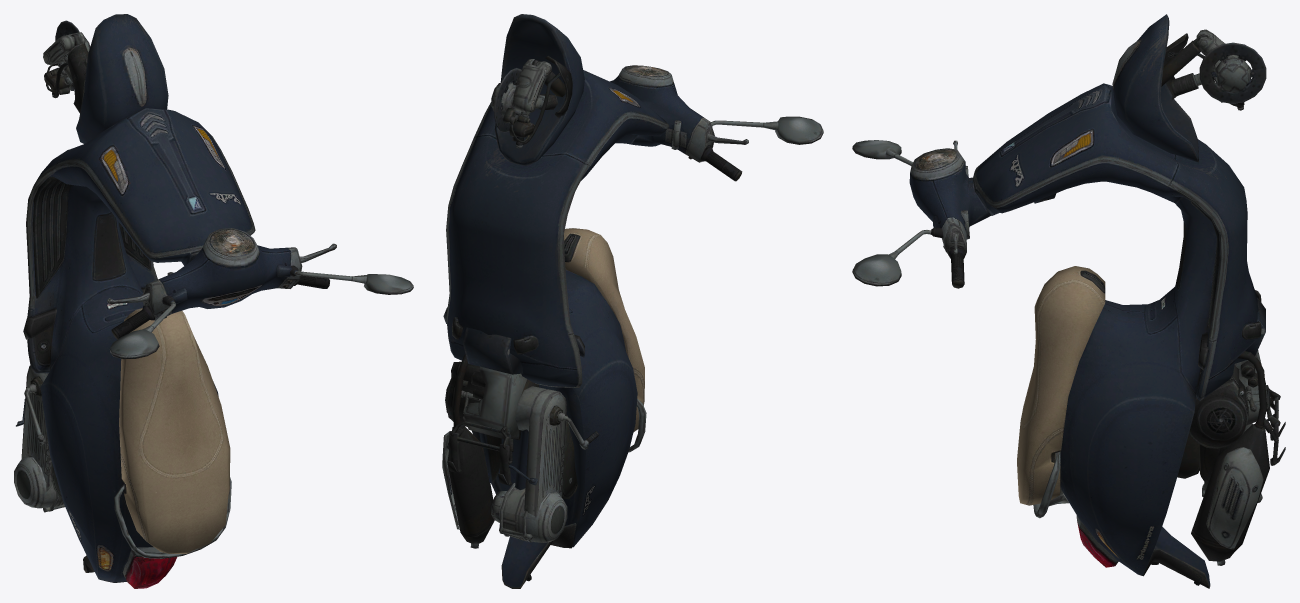
Rendered from Scooter.obj.
The picture shows the model from 3 angles, left to right: view 1: azimuth 30°, elevation 25°; view 2: azimuth 150°, elevation 25°; view 3: azimuth 270°, elevation 25°; orthographic projection. The views are drawn at different scales.
Parts seen in each view (by area): view 1: COM_Vehicle_.002; view 2: COM_Vehicle_.002; view 3: COM_Vehicle_.002.
Boxes of the visible parts, x1,y1,x2,y2 form: COM_Vehicle_.002: (14, 14, 413, 588); COM_Vehicle_.002: (442, 14, 823, 588); COM_Vehicle_.002: (852, 14, 1285, 588).
Size of the model in its own units: 0.9453 by 1.74 by 1.2.
Materials: 1 (1 with a texture image).
